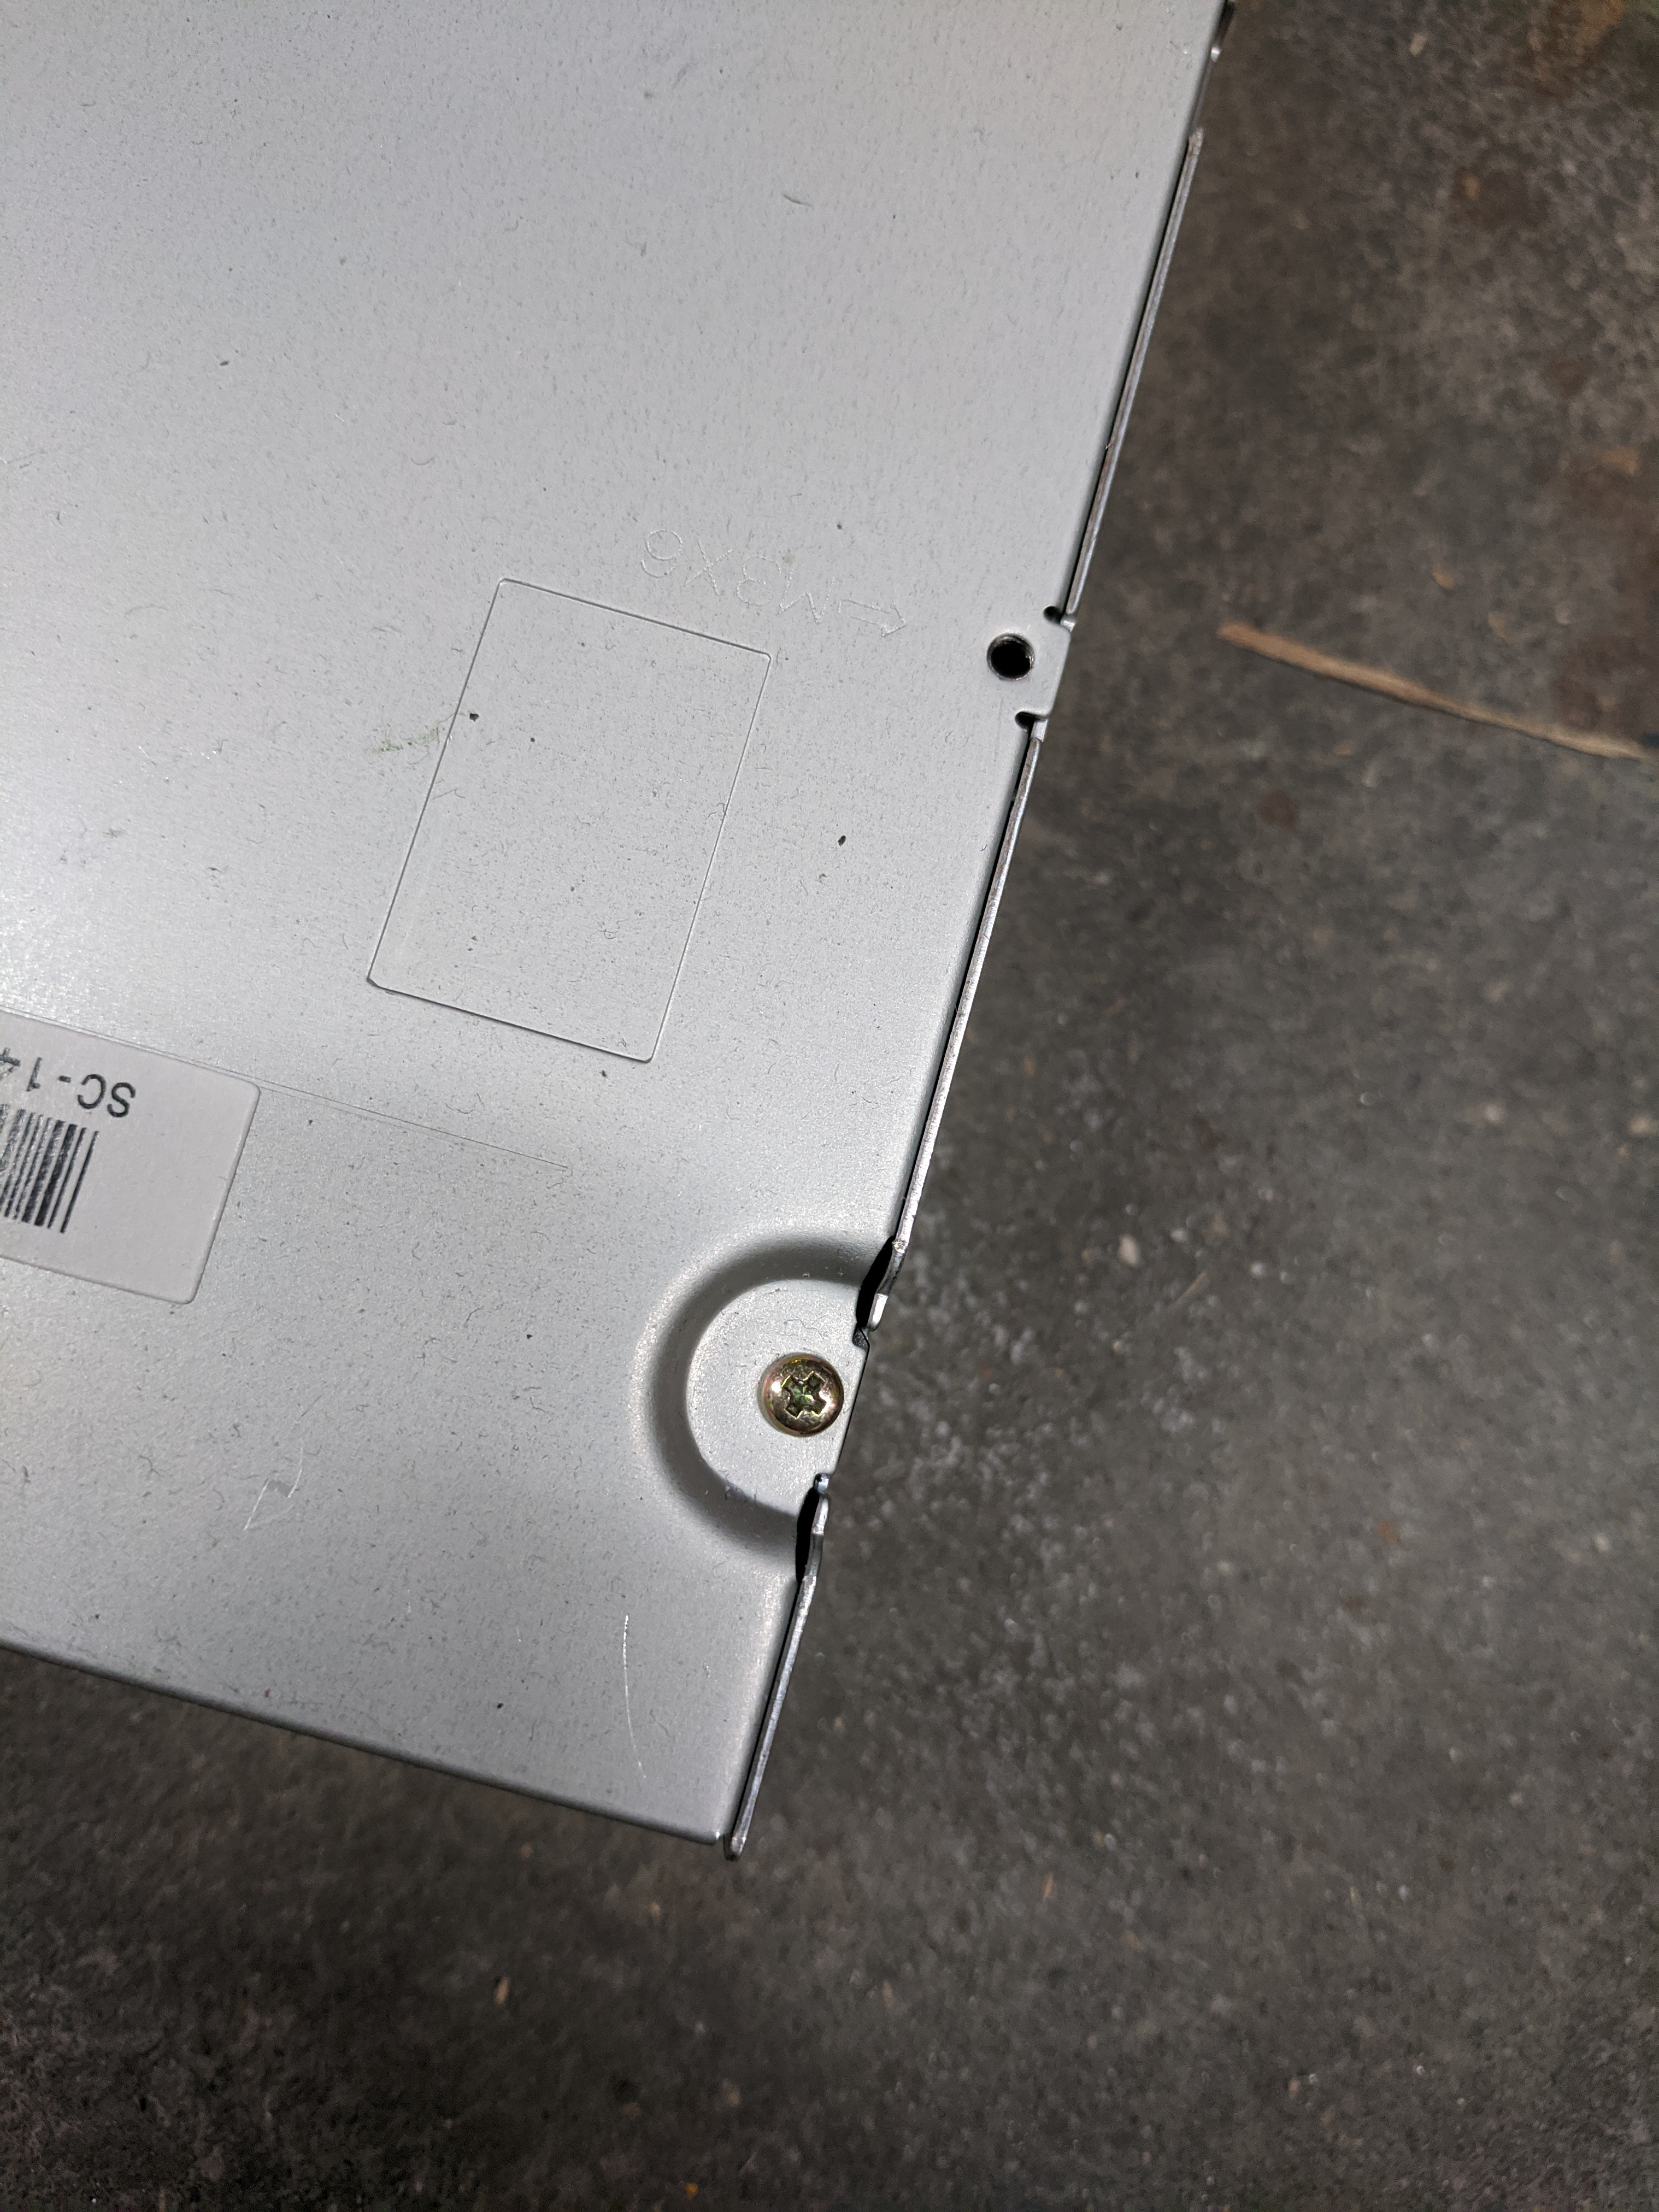cross_recessed_screw: (748, 1338, 847, 1440)
